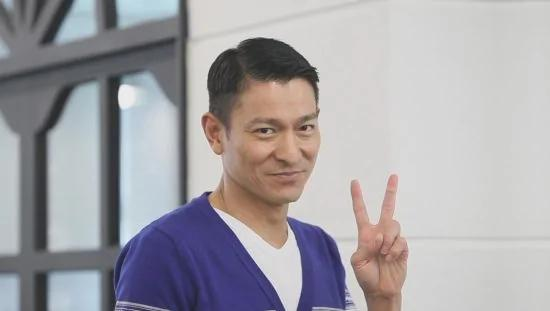v_s: (349, 172, 414, 299)
